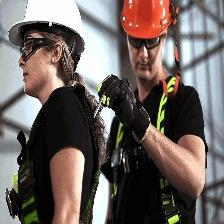Person: (103, 1, 209, 224), (5, 1, 106, 224)
helmet: (2, 1, 79, 65), (119, 1, 168, 43)
no-vest: (100, 74, 209, 224), (3, 81, 104, 224)
